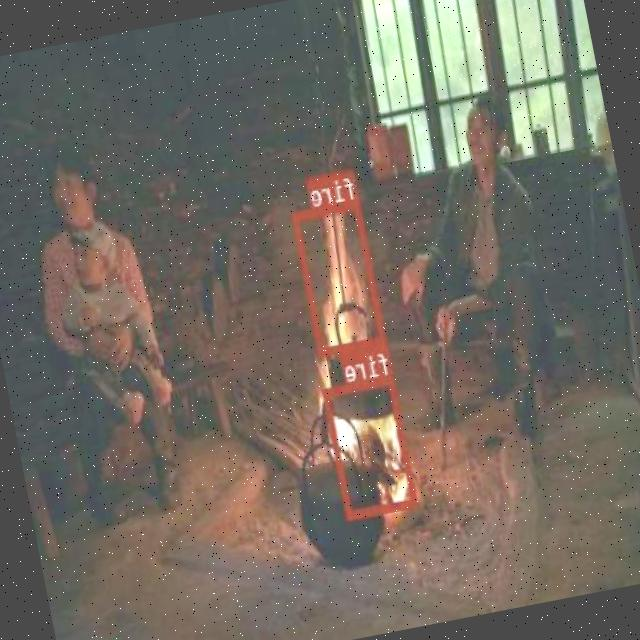fire: (292, 198, 387, 356), (322, 373, 420, 518)
